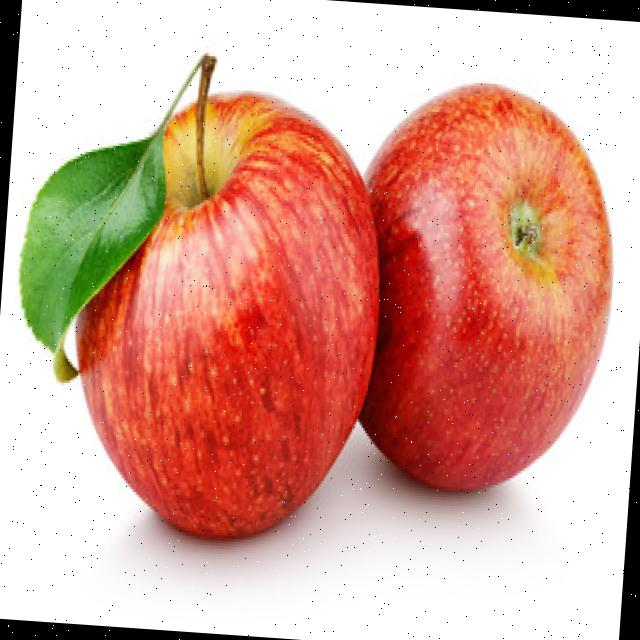Apel: (44, 43, 398, 550), (342, 72, 628, 502)
